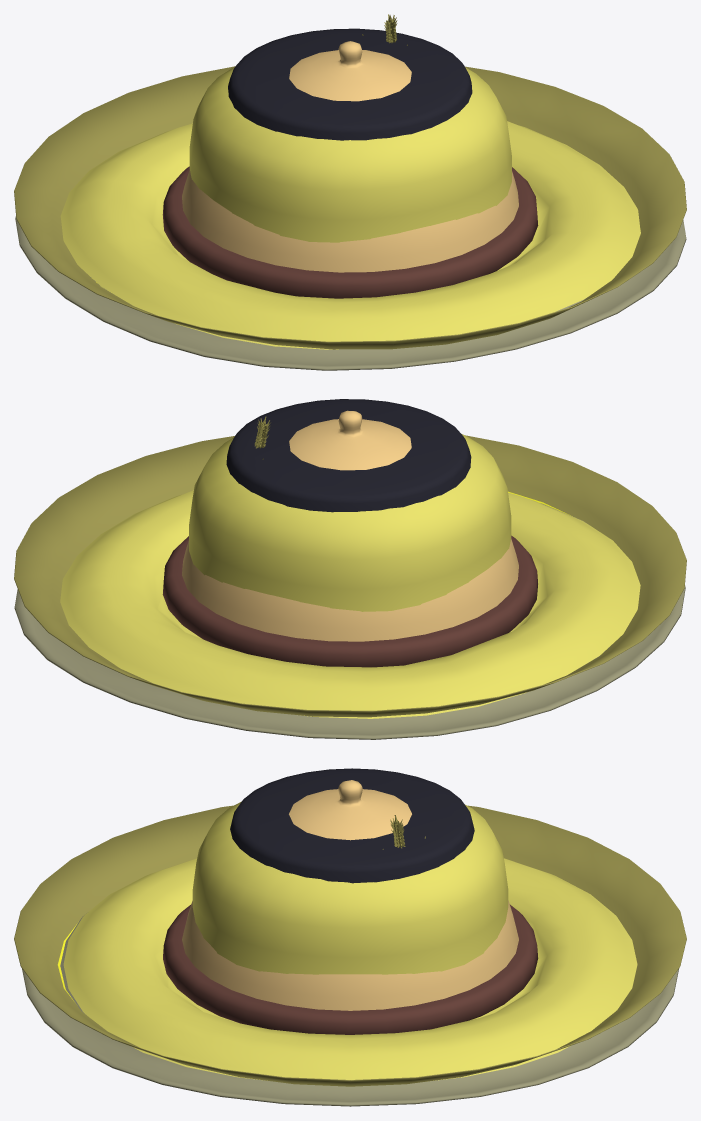
The model's file is Hats.fbx.
3 renders of one model, top to bottom at view 1: azimuth 30°, elevation 25°; view 2: azimuth 150°, elevation 25°; view 3: azimuth 270°, elevation 25°, orthographic.
Parts seen in each view (by area): view 1: Working_hat, Country_hat, Shoper_hat, Cylinder; view 2: Working_hat, Country_hat, Shoper_hat, Cylinder; view 3: Working_hat, Country_hat, Shoper_hat, Cylinder.
Boxes of the visible parts, x1,y1,x2,y2 form: Working_hat: (15, 67, 686, 370); Country_hat: (14, 14, 686, 349); Shoper_hat: (162, 41, 538, 298); Cylinder: (228, 28, 472, 140); Working_hat: (14, 434, 685, 739); Country_hat: (14, 416, 686, 717); Shoper_hat: (162, 410, 537, 667); Cylinder: (226, 399, 471, 512); Working_hat: (22, 801, 678, 1106); Country_hat: (14, 805, 686, 1086); Shoper_hat: (163, 780, 538, 1034); Cylinder: (230, 768, 474, 883).
Size of the model in its own units: 89.52 by 89.53 by 31.18.
